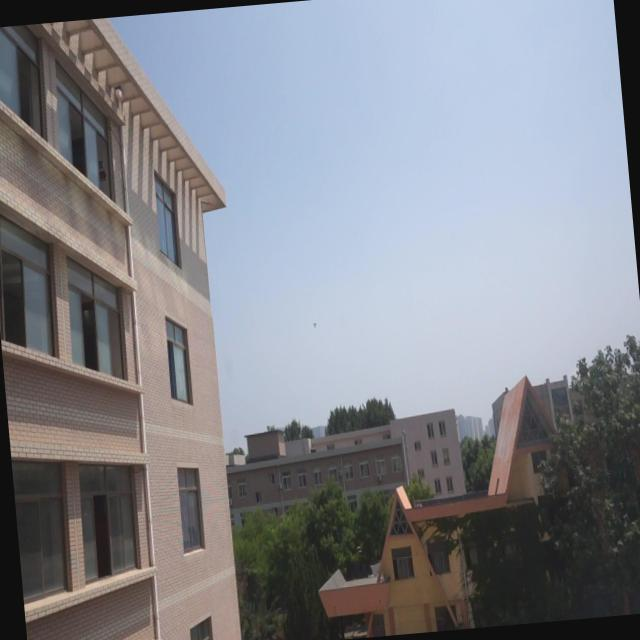drone: (308, 314, 320, 332)
